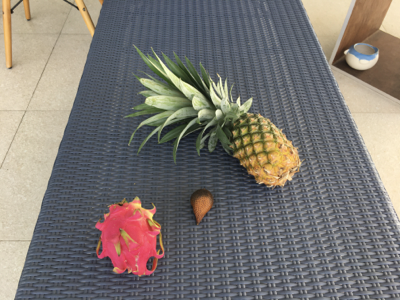dragon fruit: (96, 196, 166, 277)
pineapple: (128, 44, 301, 191)
snake fruit: (191, 189, 214, 224)
